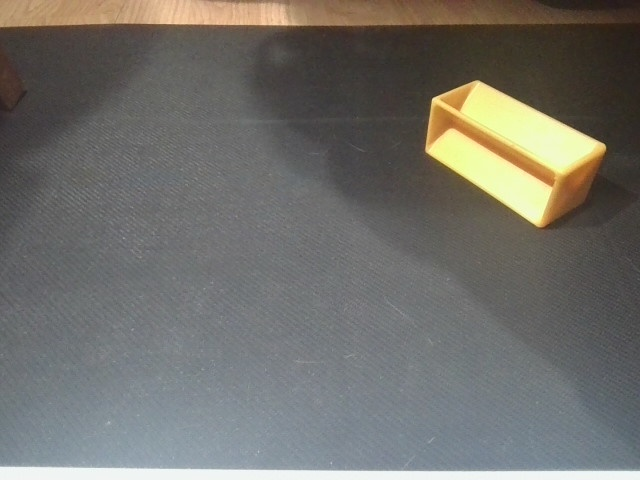YellowSample: (423, 78, 610, 231)
